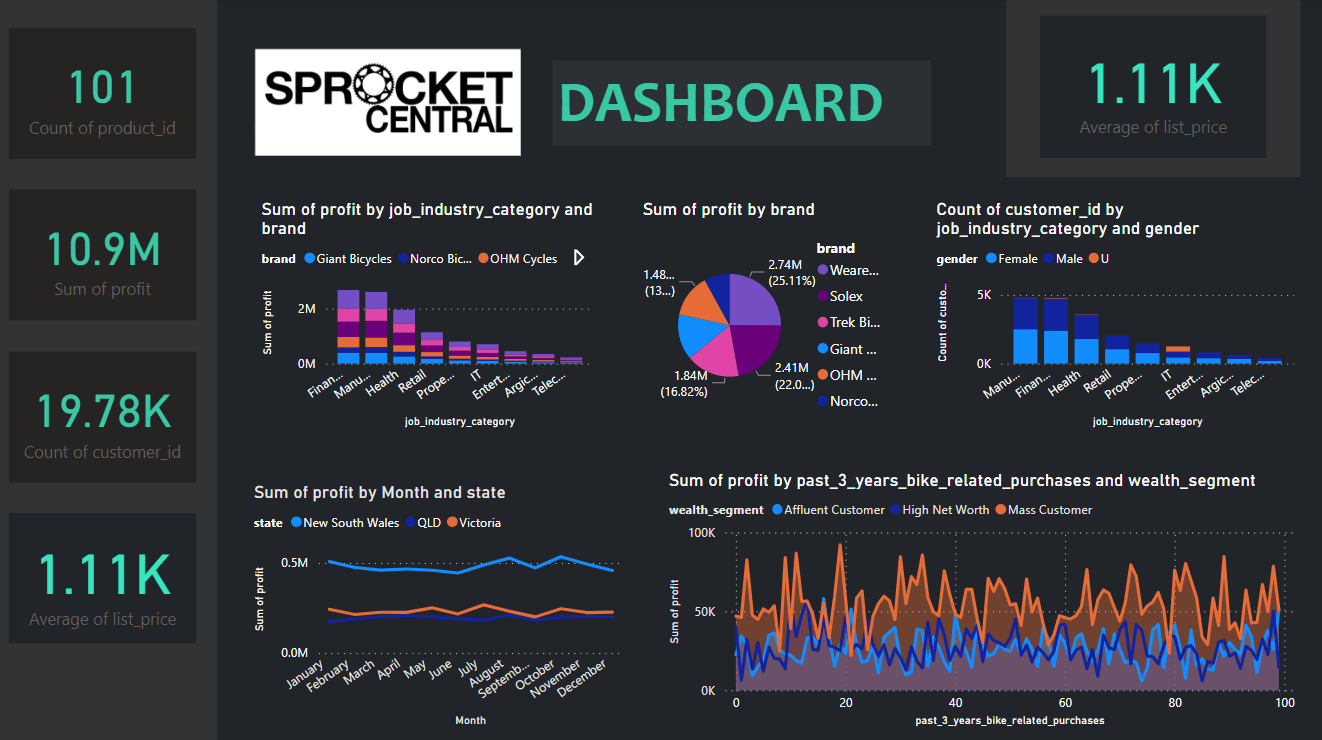

The page's visual inventory and layout, read from the dashboard file:
{"tool":"powerbi","page":{"name":"Page 3","canvas":[1280,720],"ordinal":2},"visuals":[{"type":"shape","box":[0,0,209.8,719.8],"z":0},{"type":"shape","box":[970.7,0,283.8,172.8],"z":7000},{"type":"image","box":[240,28.9,267.7,143.5],"z":8000},{"type":"textbox","box":[533.1,60.3,365.4,82],"z":9000},{"type":"card","fields":{"Values":["Sum(merged_data (2).profit)"]},"box":[8.4,184.9,181,126],"z":10000},{"type":"card","fields":{"Values":["CountNonNull(merged_data (2).customer_id)"]},"box":[8.3,340.9,181,126],"z":11000},{"type":"card","fields":{"Values":["Count(merged_data (2).product_id)"]},"box":[8.2,28.8,181,126.1],"z":12000},{"type":"card","fields":{"Values":["Avg(merged_data (2).list_price)"]},"box":[8.4,496.9,180.9,125.4],"z":13000},{"type":"card","fields":{"Values":["Avg(merged_data (2).list_price)"]},"box":[1003.4,16.9,218.3,137.5],"z":13001},{"type":"columnChart","fields":{"Y":["CountNonNull(merged_data (2).customer_id)"],"Category":["merged_data (2).job_industry_category"],"Series":["merged_data (2).gender"]},"box":[898.5,193,355.8,226.7],"z":13002},{"type":"columnChart","fields":{"Y":["Sum(merged_data (2).profit)"],"Category":["merged_data (2).job_industry_category"],"Series":["merged_data (2).brand"]},"box":[247.2,193,330.5,226.7],"z":13003},{"type":"pieChart","fields":{"Category":["merged_data (2).brand"],"Y":["Sum(merged_data (2).profit)"]},"box":[615.1,193,249.6,226.7],"z":13004},{"type":"lineChart","fields":{"Y":["Sum(merged_data (2).profit)"],"Category":["merged_data (2).transaction_date.Variation.Date Hierarchy.Month"],"Series":["merged_data (2).state"]},"box":[240,466.7,365.4,241.2],"z":13005},{"type":"areaChart","fields":{"Category":["merged_data (2).past_3_years_bike_related_purchases"],"Y":["Sum(merged_data (2).profit)"],"Series":["merged_data (2).wealth_segment"]},"box":[640.4,454.7,613.9,253.3],"z":13006}]}

Visuals, with their boxes in screenshot pixels (x1, y1, x2, y2), scaled from the page's 1280x720 canvas onto the 1322x740 screenshot:
shape: [left=0, top=0, right=217, bottom=739]
shape: [left=1003, top=0, right=1296, bottom=178]
image: [left=248, top=30, right=524, bottom=177]
textbox: [left=551, top=62, right=928, bottom=146]
card - Sum(merged_data (2).profit): [left=9, top=190, right=196, bottom=320]
card - CountNonNull(merged_data (2).customer_id): [left=9, top=350, right=196, bottom=480]
card - Count(merged_data (2).product_id): [left=8, top=30, right=195, bottom=159]
card - Avg(merged_data (2).list_price): [left=9, top=511, right=196, bottom=640]
card - Avg(merged_data (2).list_price): [left=1036, top=17, right=1262, bottom=159]
columnChart - CountNonNull(merged_data (2).customer_id) x merged_data (2).job_industry_category: [left=928, top=198, right=1295, bottom=431]
columnChart - Sum(merged_data (2).profit) x merged_data (2).job_industry_category: [left=255, top=198, right=597, bottom=431]
pieChart - merged_data (2).brand x Sum(merged_data (2).profit): [left=635, top=198, right=893, bottom=431]
lineChart - Sum(merged_data (2).profit) x merged_data (2).transaction_date.Variation.Date Hierarchy.Month: [left=248, top=480, right=625, bottom=728]
areaChart - merged_data (2).past_3_years_bike_related_purchases x Sum(merged_data (2).profit): [left=661, top=467, right=1295, bottom=728]
